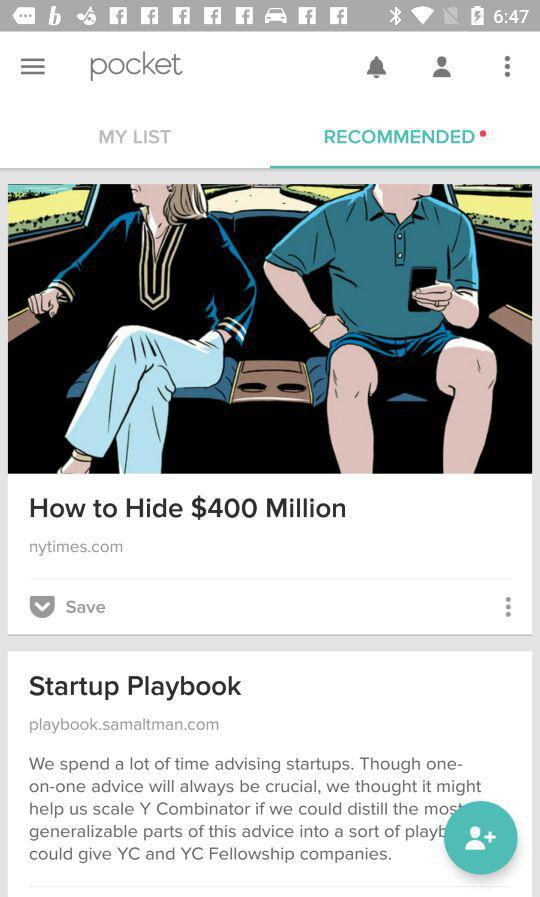Card: (7, 182, 535, 638), (7, 651, 532, 897)
Icon: (445, 800, 518, 875), (30, 596, 57, 619), (21, 57, 47, 76), (367, 56, 387, 80), (432, 57, 452, 79), (505, 596, 512, 619), (504, 57, 511, 79)
Image: (9, 185, 532, 475), (481, 132, 486, 136)
Text: (30, 756, 483, 866), (31, 498, 346, 521), (30, 675, 243, 702), (30, 717, 220, 735), (91, 51, 184, 83), (325, 130, 475, 145), (31, 539, 124, 557), (100, 129, 172, 145), (67, 600, 107, 614)
UpperTaskBar: (1, 1, 540, 33)
